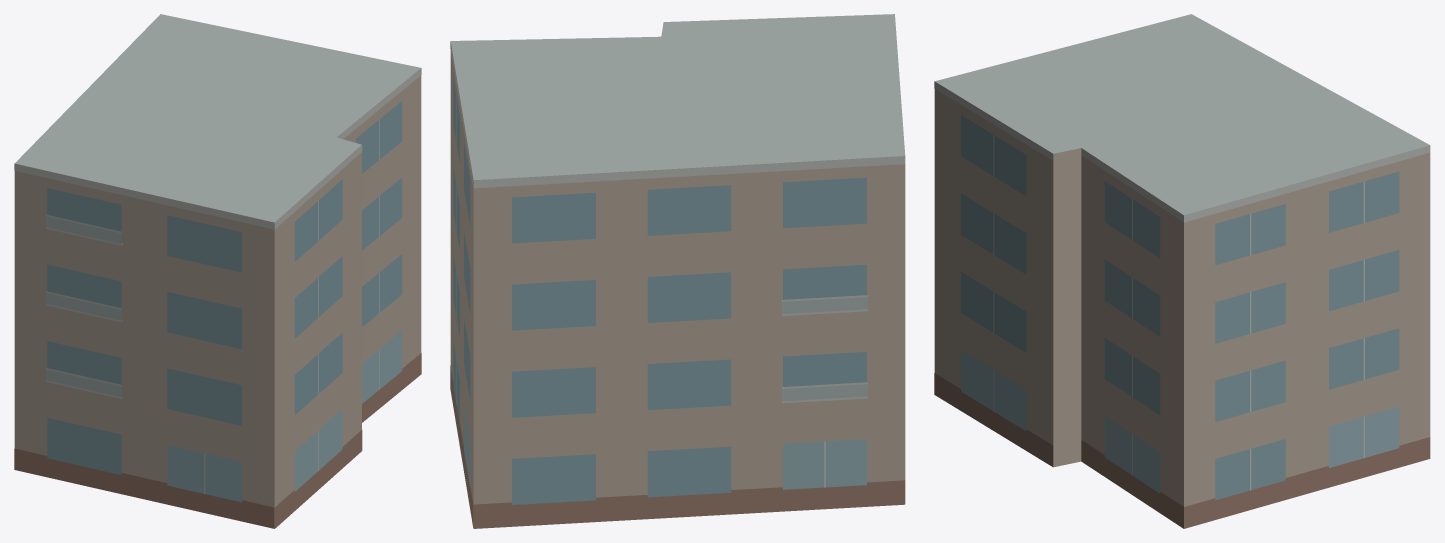
File: survey-upis-32974331.glb
3 views of the same model, side by side, from view 1: azimuth 30°, elevation 25°; view 2: azimuth 150°, elevation 25°; view 3: azimuth 270°, elevation 25° (orthographic). The views are drawn at different scales.
Visible parts, largest first — view 1: survey-upis-32974331.tmp; view 2: survey-upis-32974331.tmp; view 3: survey-upis-32974331.tmp.
Boxes of the visible parts, bbox=[...] form: survey-upis-32974331.tmp: bbox=[14, 14, 421, 528]; survey-upis-32974331.tmp: bbox=[450, 14, 905, 528]; survey-upis-32974331.tmp: bbox=[934, 14, 1430, 528].
Size of the model in its own units: 14.47 by 10.5 by 15.06.
